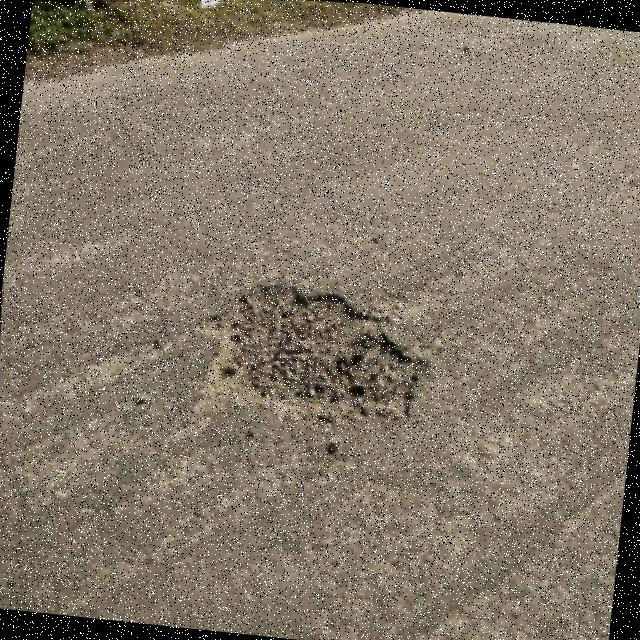Pothole: (199, 286, 427, 418)
